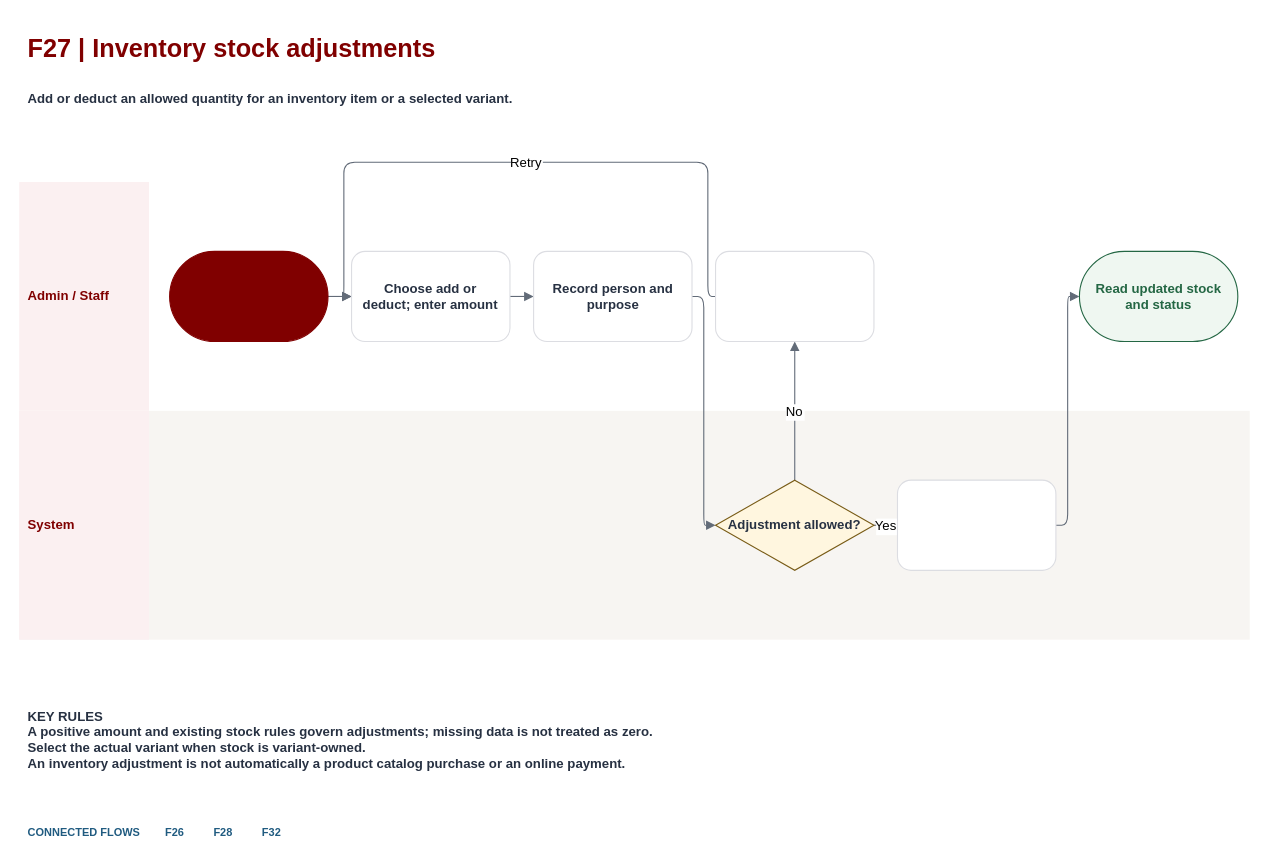
This 1268x860 diagram has some shape labels left out. Here are the shapes that lost their labels. From the top down, the centre of each, then its label:
pixel 248 296: Select item or variant
pixel 794 296: Correct amount or resolve blocker
pixel 976 524: Save quantity and transaction
